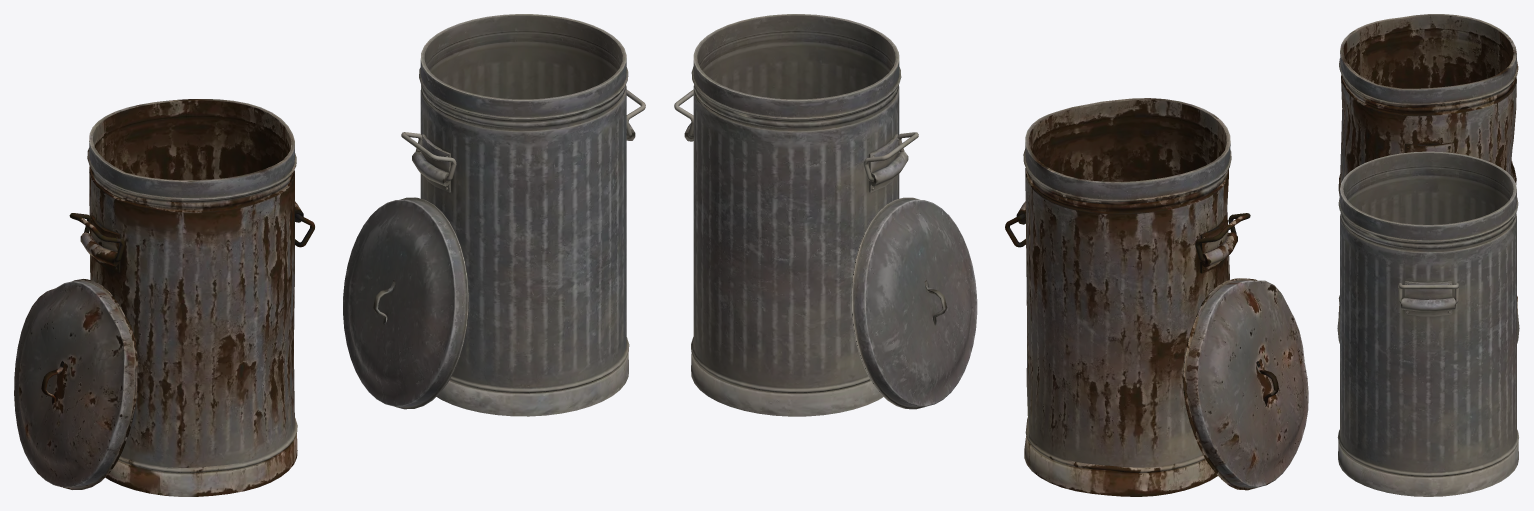
The model's file is metal_trash_can.glb.
3 views of the same model, side by side, from view 1: azimuth 30°, elevation 25°; view 2: azimuth 150°, elevation 25°; view 3: azimuth 270°, elevation 25° (orthographic). The views are drawn at different scales.
Visible parts, largest first — view 1: metal_trash_can, metal_trash_can_rust, metal_trash_can_lid, metal_trash_can_rust_lid; view 2: metal_trash_can, metal_trash_can_rust, metal_trash_can_lid, metal_trash_can_rust_lid; view 3: metal_trash_can, metal_trash_can_rust, metal_trash_can_handle_right.
Boxes of the visible parts, x1=… form: metal_trash_can: x1=412, y1=14, x2=635, y2=416; metal_trash_can_rust: x1=80, y1=99, x2=303, y2=496; metal_trash_can_lid: x1=343, y1=197, x2=468, y2=409; metal_trash_can_rust_lid: x1=14, y1=279, x2=137, y2=489; metal_trash_can: x1=684, y1=14, x2=908, y2=416; metal_trash_can_rust: x1=1016, y1=98, x2=1237, y2=496; metal_trash_can_lid: x1=851, y1=197, x2=977, y2=409; metal_trash_can_rust_lid: x1=1183, y1=278, x2=1308, y2=490; metal_trash_can: x1=1337, y1=151, x2=1518, y2=496; metal_trash_can_rust: x1=1338, y1=14, x2=1518, y2=316; metal_trash_can_handle_right: x1=1398, y1=283, x2=1458, y2=303.
Bounding box in the file's own units: 1.78 × 0.9062 × 0.5543.
Materials: 2 (2 with a texture image).
